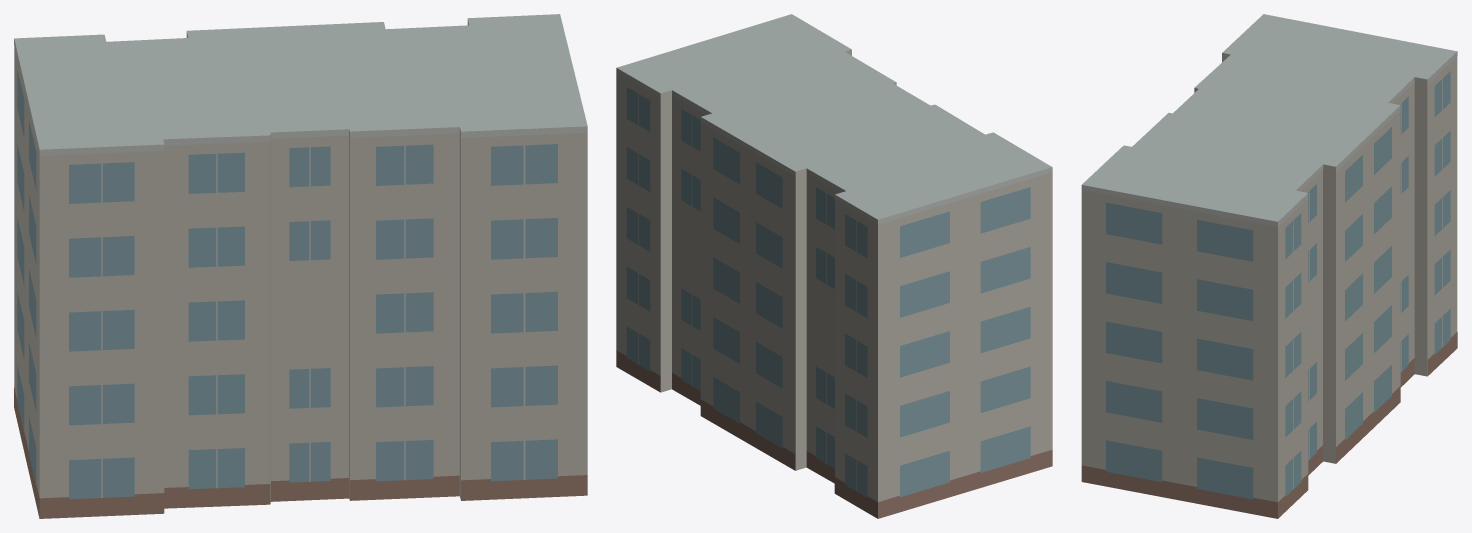
File: survey-upis-32512124.glb
The picture shows the model from 3 angles, left to right: view 1: azimuth 30°, elevation 25°; view 2: azimuth 150°, elevation 25°; view 3: azimuth 270°, elevation 25°; orthographic projection. The views are drawn at different scales.
Parts seen in each view (by area): view 1: survey-upis-32512124.tmp; view 2: survey-upis-32512124.tmp; view 3: survey-upis-32512124.tmp.
Boxes of the visible parts, x1,y1,x2,y2 form: survey-upis-32512124.tmp: (14, 14, 587, 518); survey-upis-32512124.tmp: (616, 14, 1052, 518); survey-upis-32512124.tmp: (1081, 14, 1457, 518).
Size of the model in its own units: 21.5 by 14.32 by 16.43.
